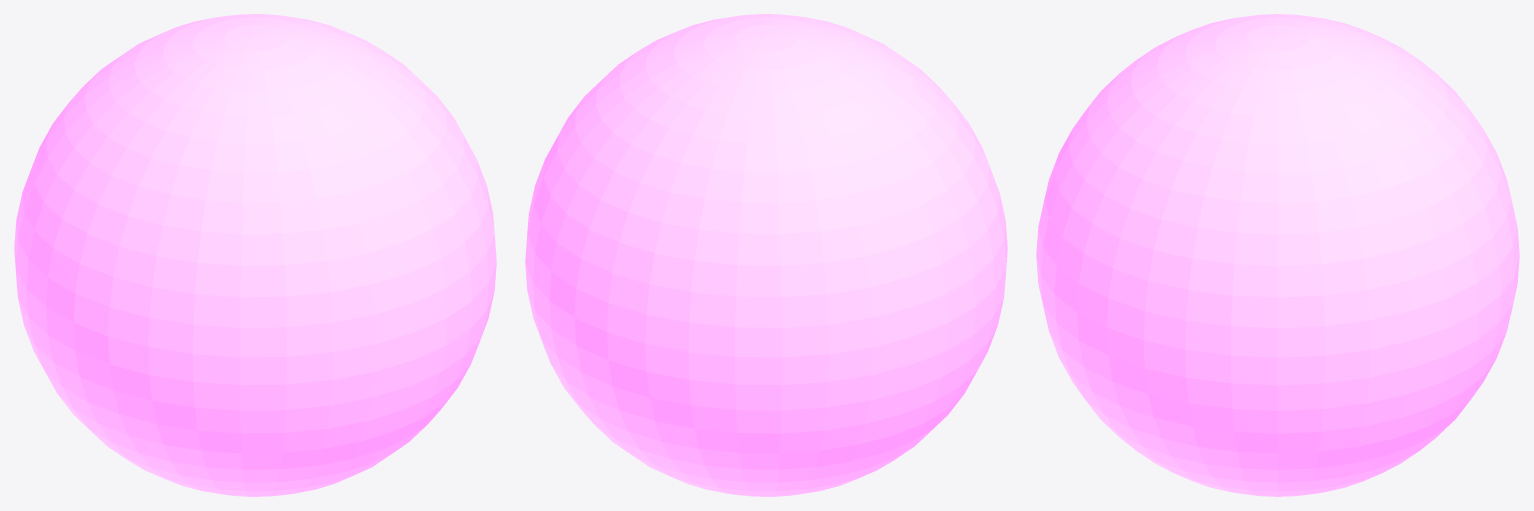
Rendered from flame_0g.glb.
The picture shows the model from 3 angles, left to right: view 1: azimuth 30°, elevation 25°; view 2: azimuth 150°, elevation 25°; view 3: azimuth 270°, elevation 25°; orthographic projection.
Visible parts, largest first — view 1: Flame_0g_Cool_Mantle; view 2: Flame_0g_Cool_Mantle; view 3: Flame_0g_Cool_Mantle.
Boxes of the visible parts, x1=… form: Flame_0g_Cool_Mantle: x1=14, y1=14, x2=496, y2=496; Flame_0g_Cool_Mantle: x1=525, y1=14, x2=1007, y2=496; Flame_0g_Cool_Mantle: x1=1036, y1=14, x2=1519, y2=496.
Size of the model in its own units: 1.9 by 1.9 by 1.9.
